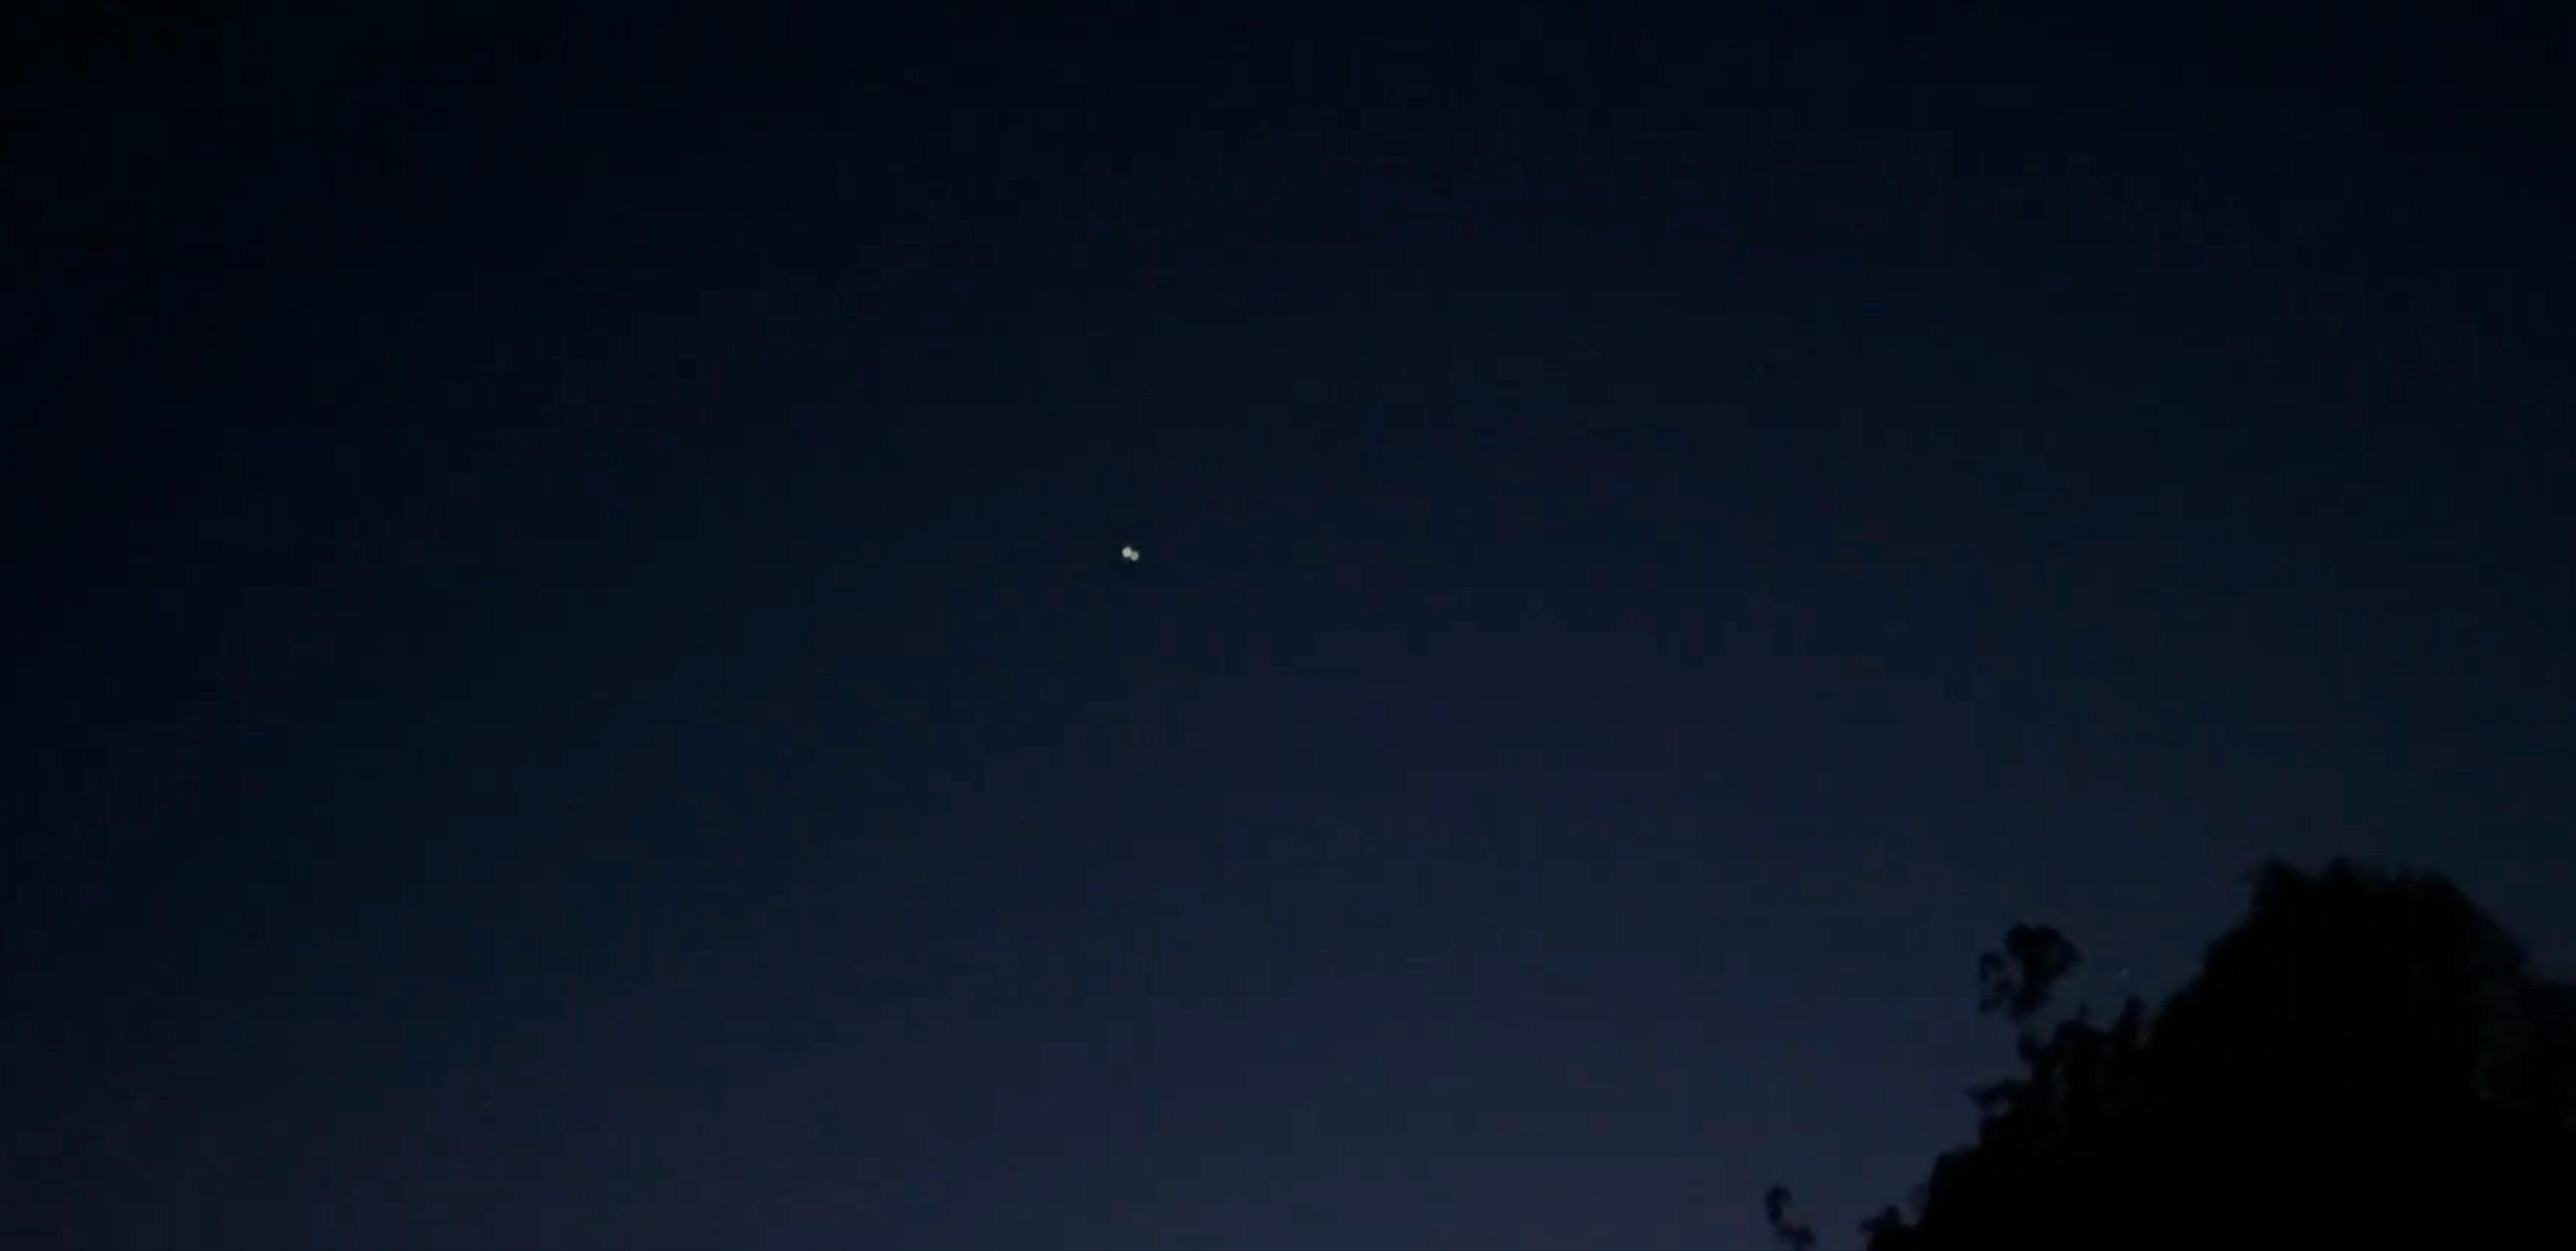Plane: (1109, 533, 1150, 574)
